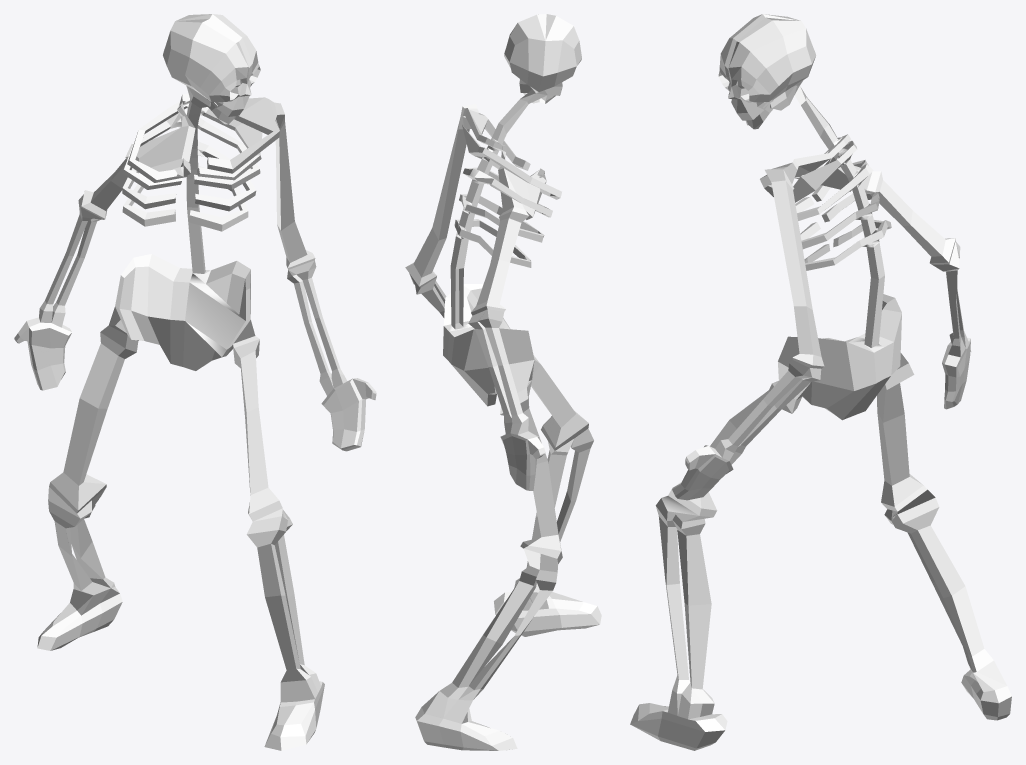
The model's file is SkeletonIdle(16).obj.
The picture shows the model from 3 angles, left to right: view 1: azimuth 30°, elevation 25°; view 2: azimuth 150°, elevation 25°; view 3: azimuth 270°, elevation 25°; orthographic projection. The views are drawn at different scales.
Parts seen in each view (by area): view 1: Object002; view 2: Object002; view 3: Object002.
Boxes of the visible parts, bbox=[...] form: Object002: bbox=[14, 14, 376, 750]; Object002: bbox=[405, 14, 601, 750]; Object002: bbox=[630, 14, 1011, 750].
Bounding box in the file's own units: 383 × 1122 × 556.
